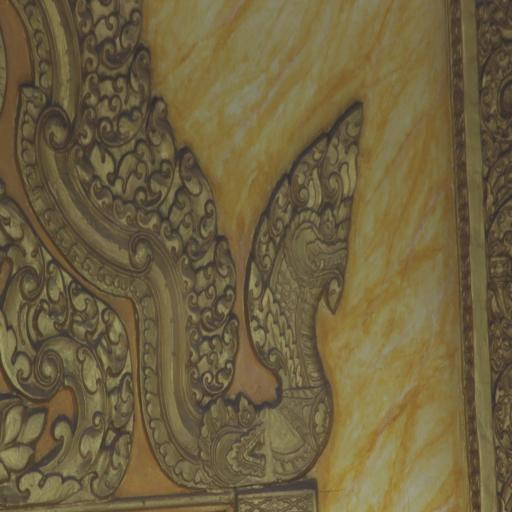lua: (90, 45, 160, 144), (121, 94, 173, 201), (170, 143, 214, 252), (83, 2, 143, 74), (194, 230, 239, 319), (197, 310, 242, 394), (34, 258, 69, 342), (98, 304, 129, 371), (97, 434, 132, 492), (69, 275, 96, 348), (108, 370, 136, 427)
ran: (196, 118, 374, 478)
